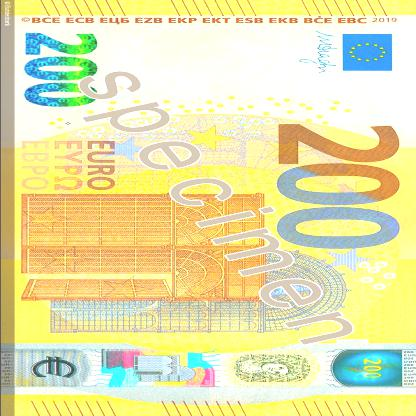euro_banknote: (8, 9, 416, 409)
